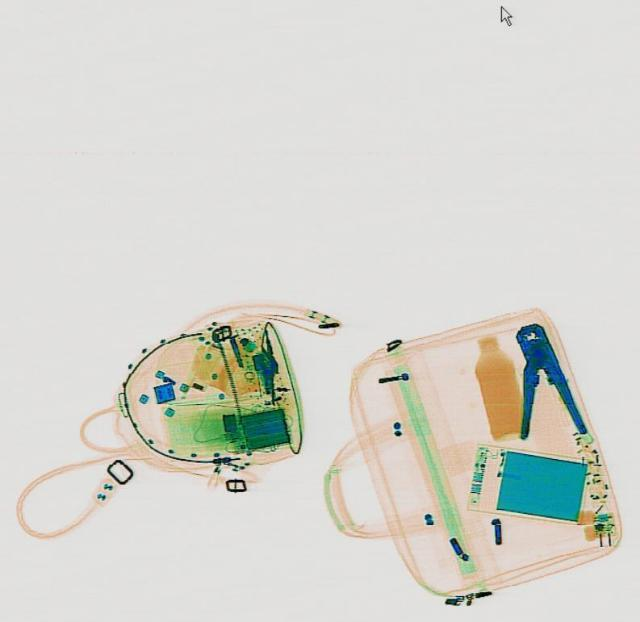Pliers: (491, 316, 584, 442)
